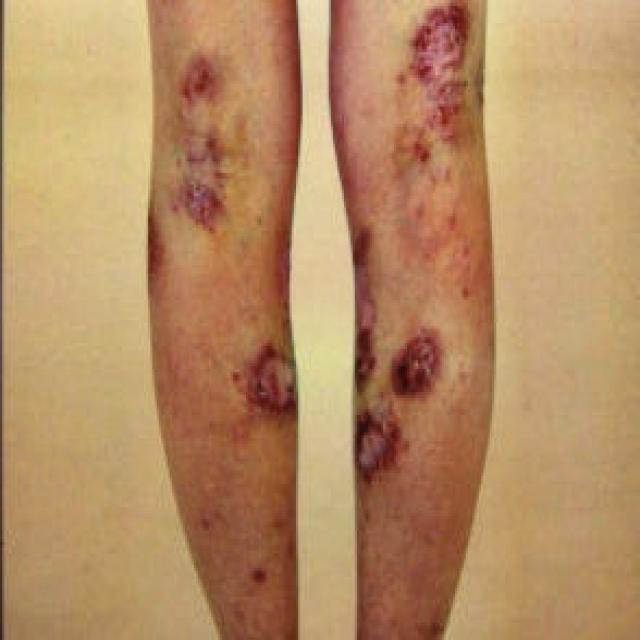Atopic-Dermatitis: (333, 6, 491, 636), (150, 3, 294, 636)
